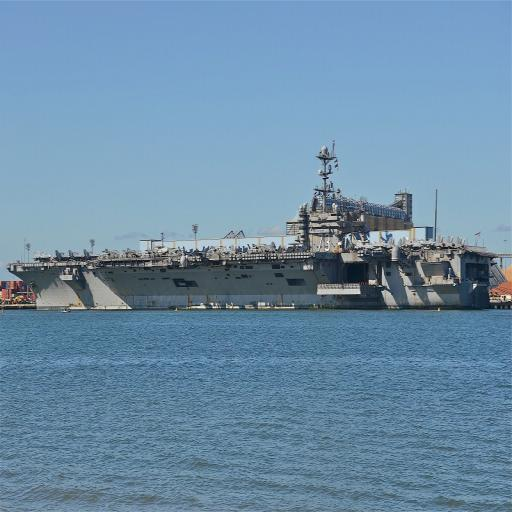Portanaves: (7, 145, 496, 315)
